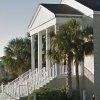Tree: (44, 22, 100, 88)
